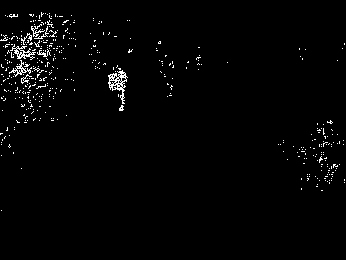person: (108, 65, 128, 112)
